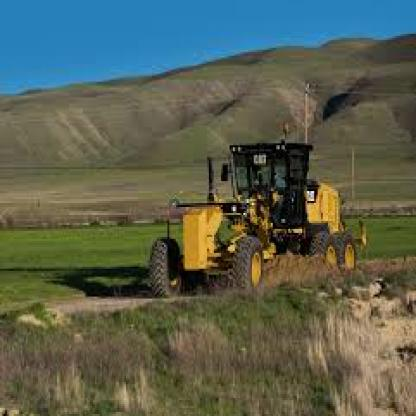bull_dozer/loader/grader: (105, 118, 383, 302)
